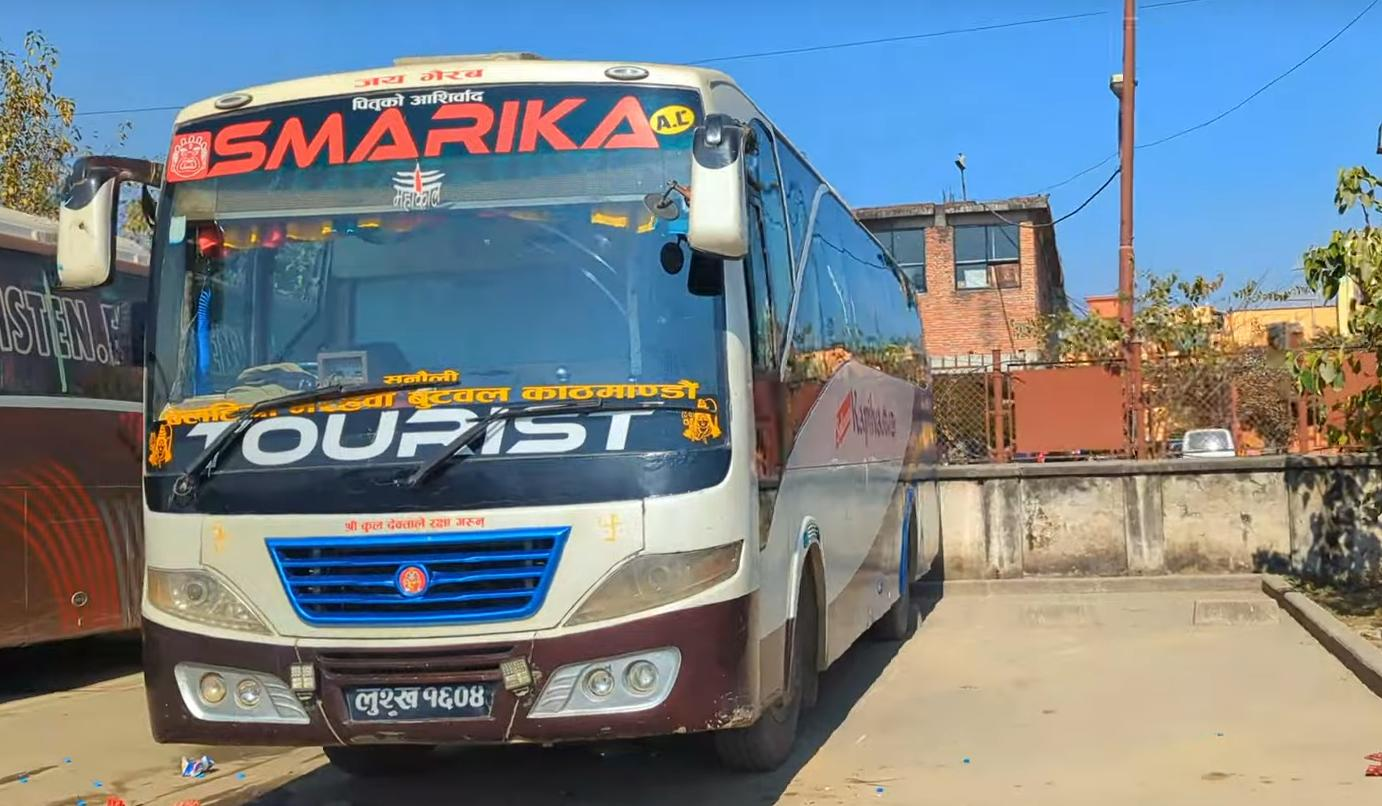bus: (66, 48, 954, 746)
